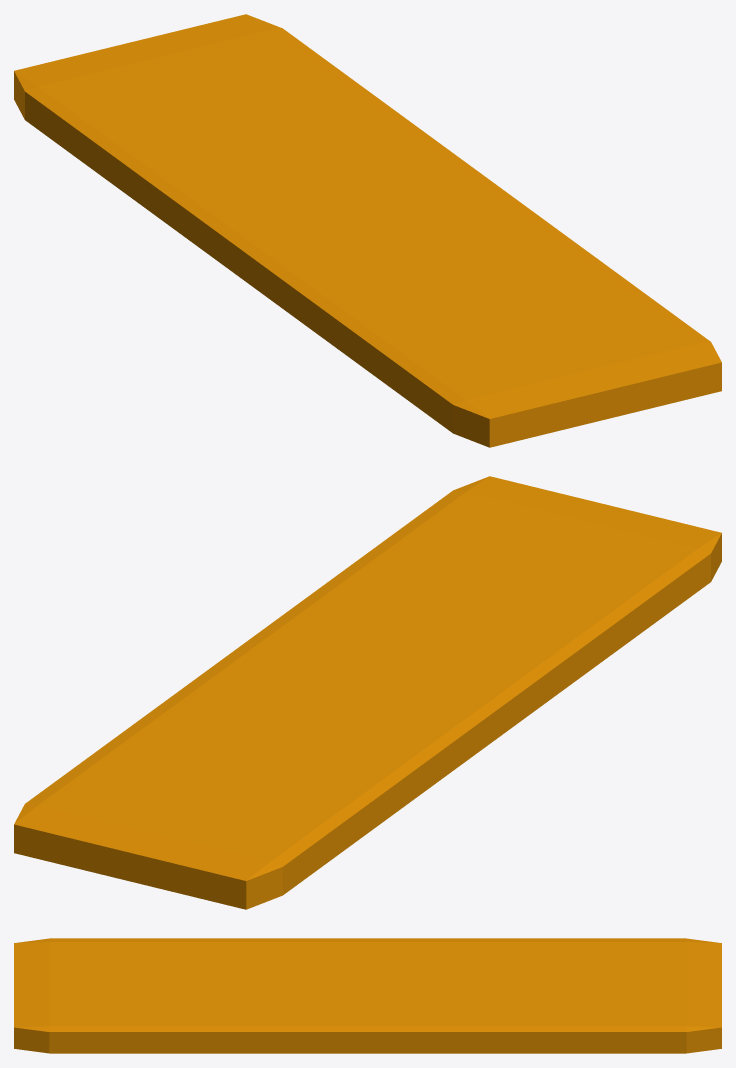
The model's file is Door Counter.fbx.
3 views of the same model, one above another, from view 1: azimuth 30°, elevation 25°; view 2: azimuth 150°, elevation 25°; view 3: azimuth 270°, elevation 25° (orthographic). The views are drawn at different scales.
Visible parts, largest first — view 1: Cube.001; view 2: Cube.001; view 3: Cube.001.
Part boxes in pixels (x1,y1,x2,y2): Cube.001: (14, 14, 721, 447); Cube.001: (14, 476, 721, 909); Cube.001: (14, 938, 721, 1053).
Bounding box in the file's own units: 62.61 × 7.4 × 200.
